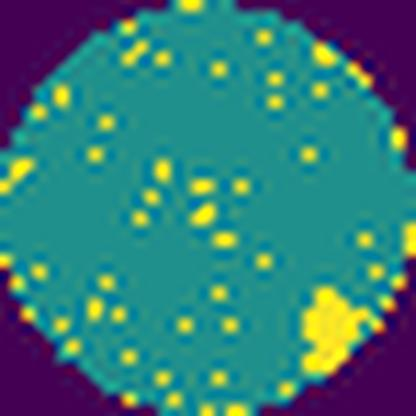Edge-Loc: (304, 288, 374, 376)
